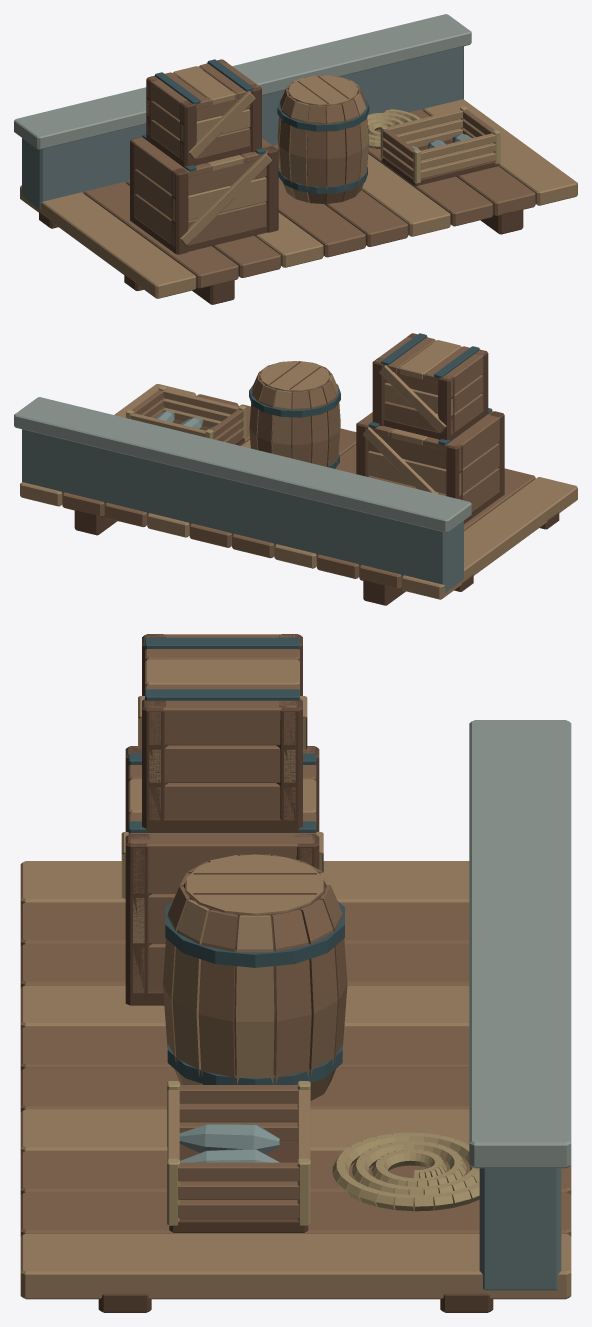
The model's file is quay-loading-bay.glb.
3 renders of one model, top to bottom at view 1: azimuth 30°, elevation 25°; view 2: azimuth 150°, elevation 25°; view 3: azimuth 270°, elevation 25°, orthographic. The views are drawn at different scales.
Visible parts, largest first — view 1: quay-loading-bay__body; view 2: quay-loading-bay__body; view 3: quay-loading-bay__body.
Part boxes in pixels (box(x1,y1,x2,y2)): quay-loading-bay__body: box(14, 14, 577, 304); quay-loading-bay__body: box(14, 333, 577, 605); quay-loading-bay__body: box(20, 634, 571, 1312).
Bounding box in the file's own units: 2.46 × 0.961 × 1.35.
